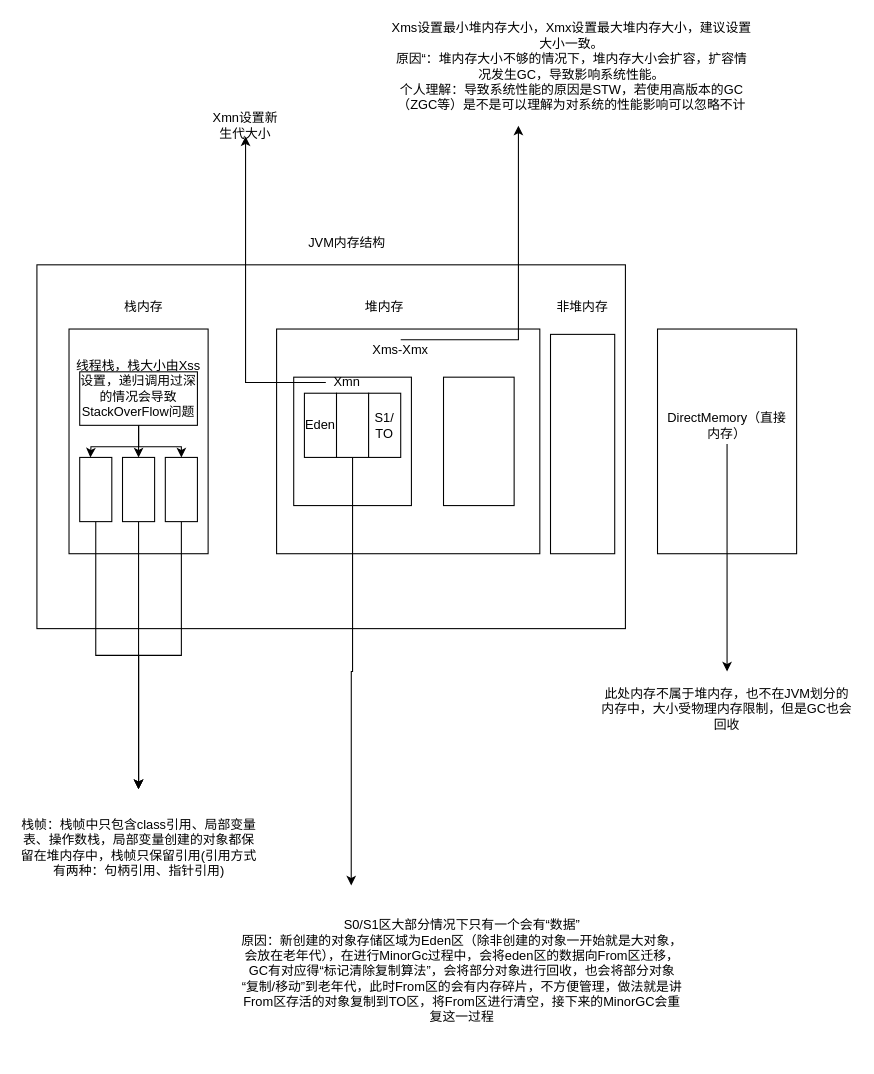
Image size: 874x1074. Some labels were removed from this diagram. Each missing label, with the centre of its shape:
"Meta" belongs at (x=582, y=443).
"S0/ From" belongs at (x=352, y=424).
